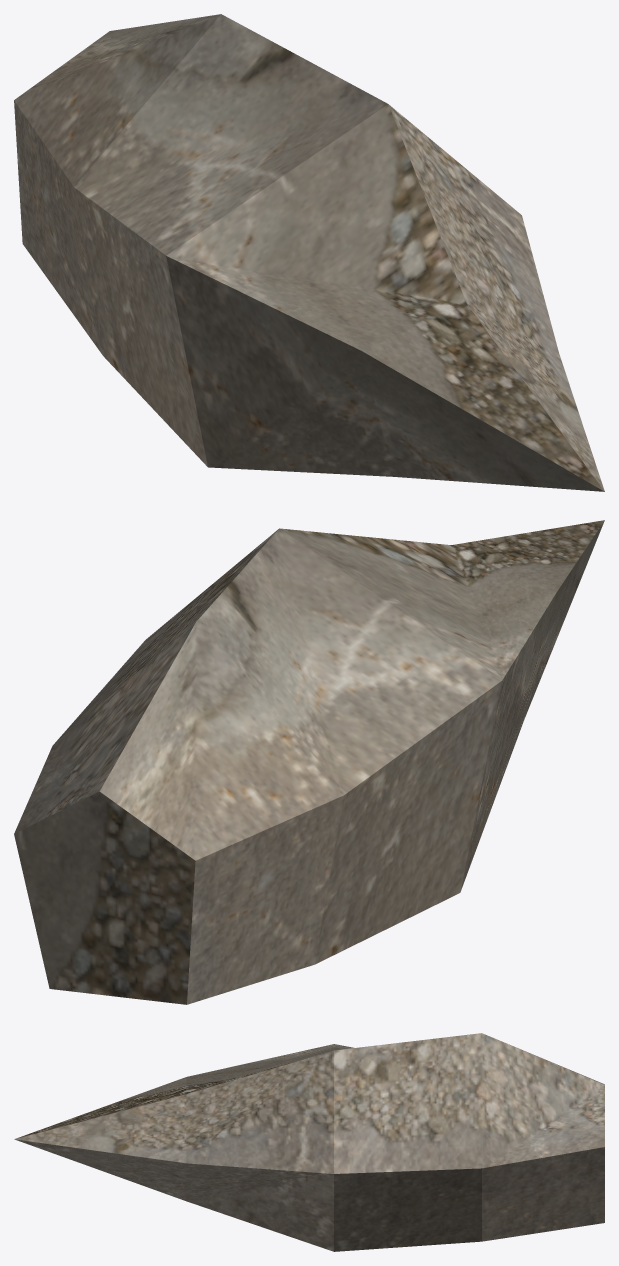
The model's file is bossAttackRock.fbx.
3 renders of one model, top to bottom at view 1: azimuth 30°, elevation 25°; view 2: azimuth 150°, elevation 25°; view 3: azimuth 270°, elevation 25°, orthographic. The views are drawn at different scales.
Visible parts, largest first — view 1: Boss_Rock; view 2: Boss_Rock; view 3: Boss_Rock.
Part boxes in pixels (x1,y1,x2,y2): Boss_Rock: [14, 14, 604, 491]; Boss_Rock: [14, 520, 604, 1004]; Boss_Rock: [14, 1033, 604, 1251].
Bounding box in the file's own units: 49.33 × 44.87 × 120.
